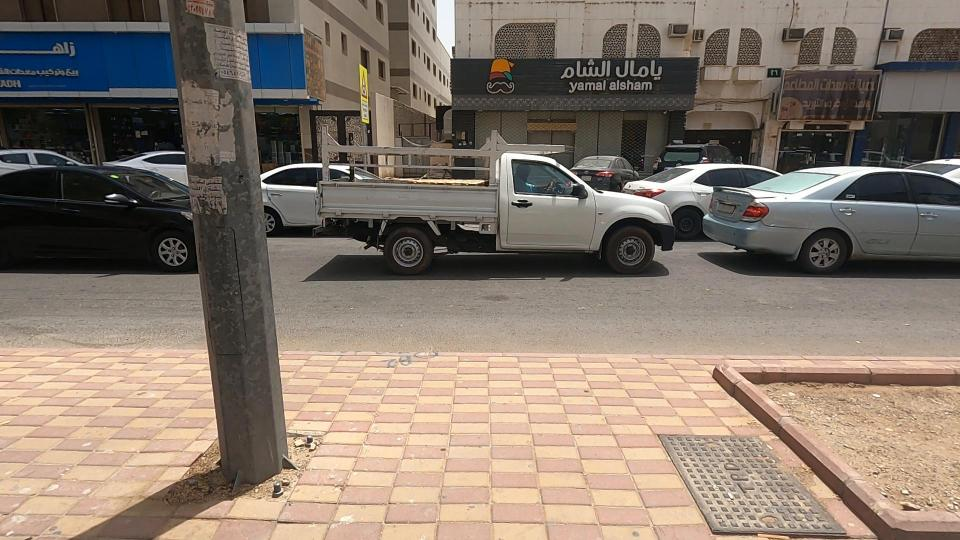BAD_BILLBOARD: (731, 32, 938, 152)
